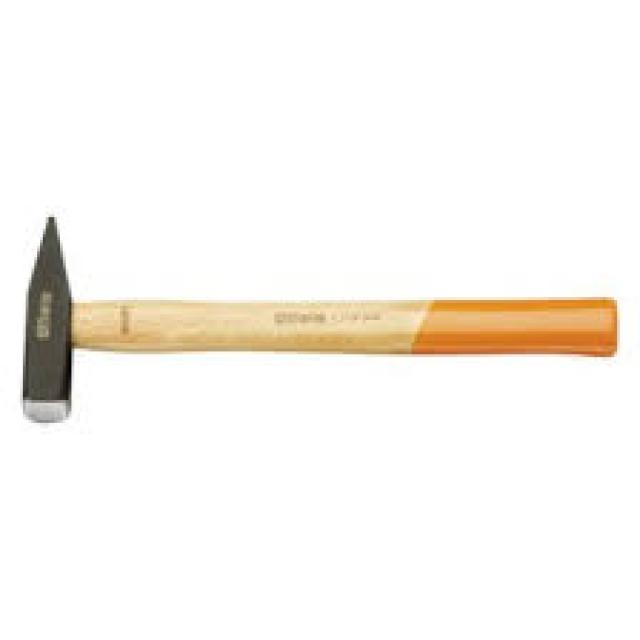Palu: (18, 208, 618, 433)
